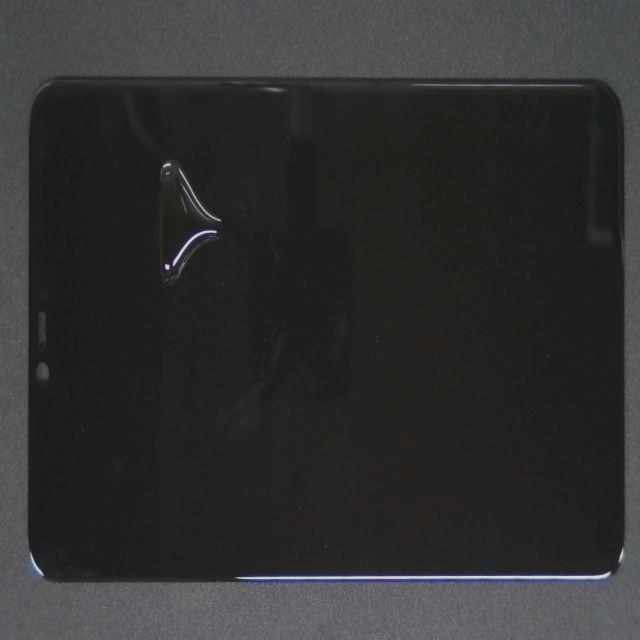oil: (120, 111, 278, 265)
